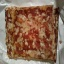pizza: (4, 6, 58, 62)
